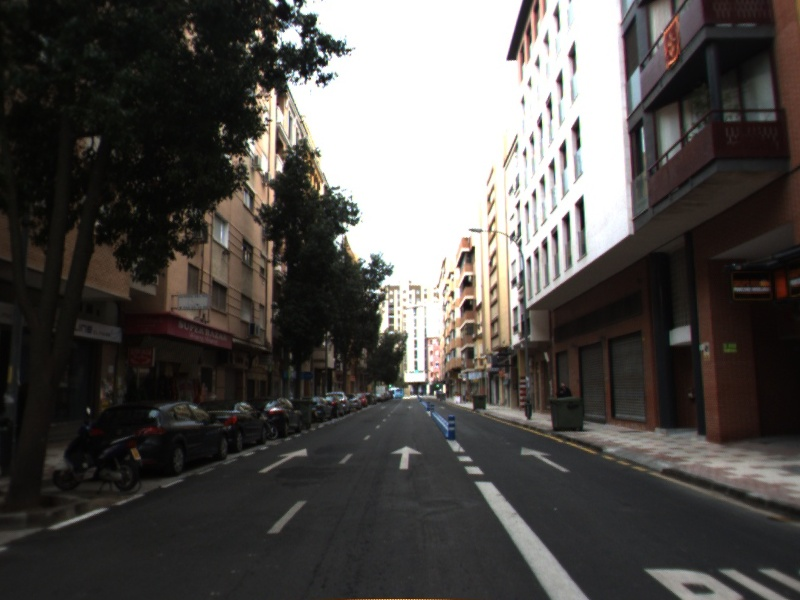STRAIGHT: (519, 445, 572, 474), (257, 446, 310, 475), (388, 444, 424, 471)
